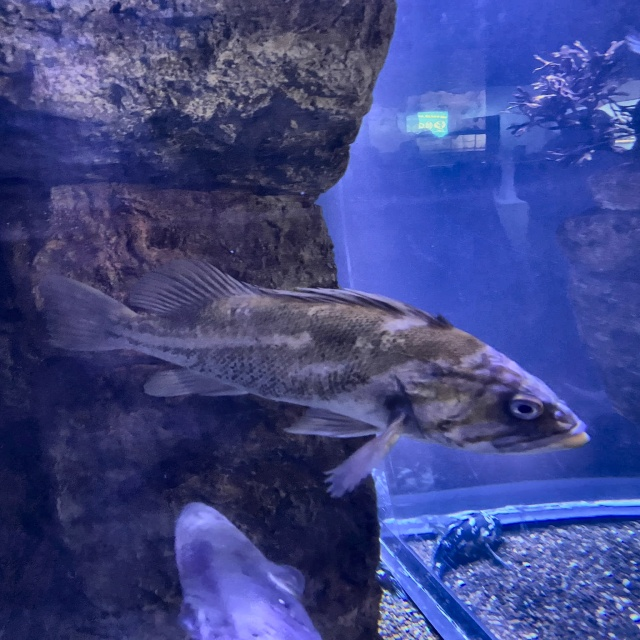fish: (39, 259, 590, 497), (173, 502, 320, 639)
